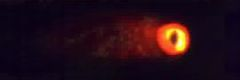keyhole: (167, 29, 181, 46)
